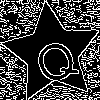Q: (27, 28, 83, 90)
